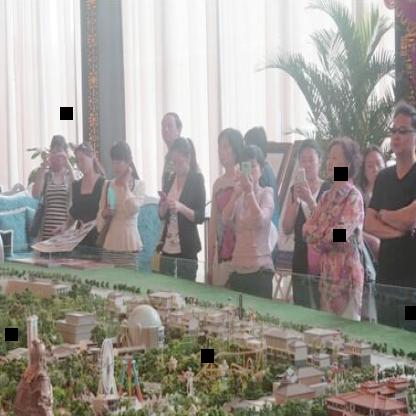head: (387, 101, 416, 160), (324, 135, 357, 186), (168, 136, 198, 188), (216, 124, 244, 178), (108, 139, 136, 187), (296, 140, 324, 184), (360, 145, 386, 191), (160, 110, 186, 146), (242, 142, 266, 180), (48, 132, 70, 172), (74, 140, 96, 176)
